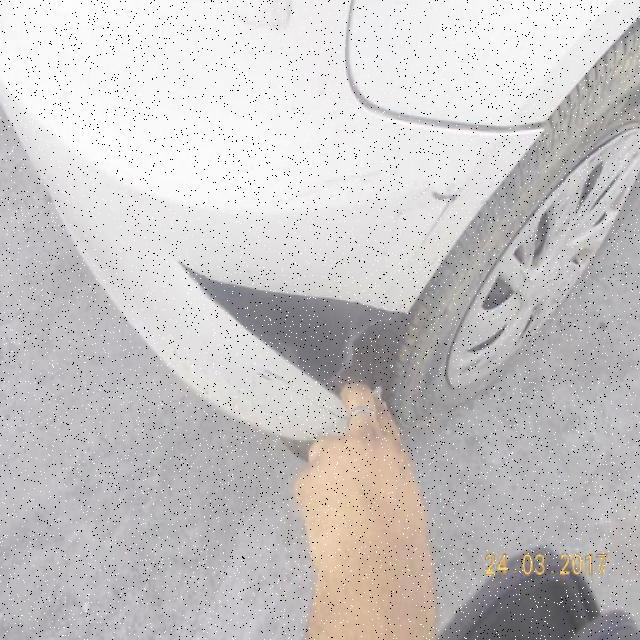car damage: (180, 266, 413, 404), (422, 186, 461, 247), (232, 0, 297, 34)
